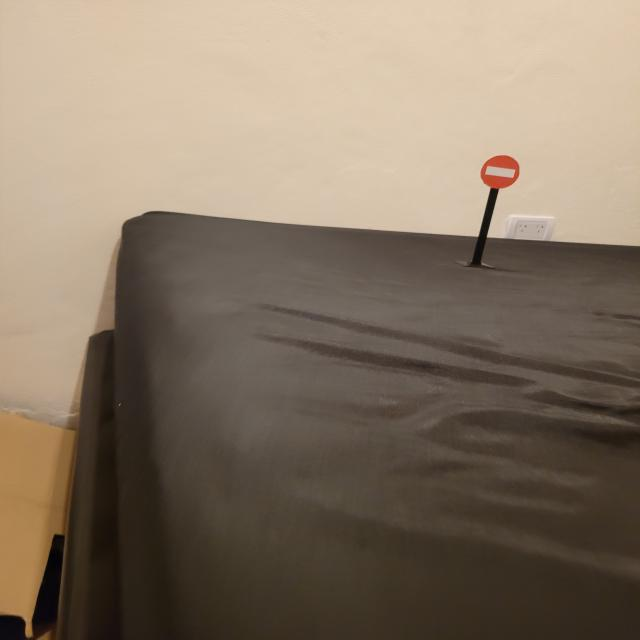no_entry: (479, 154, 522, 190)
